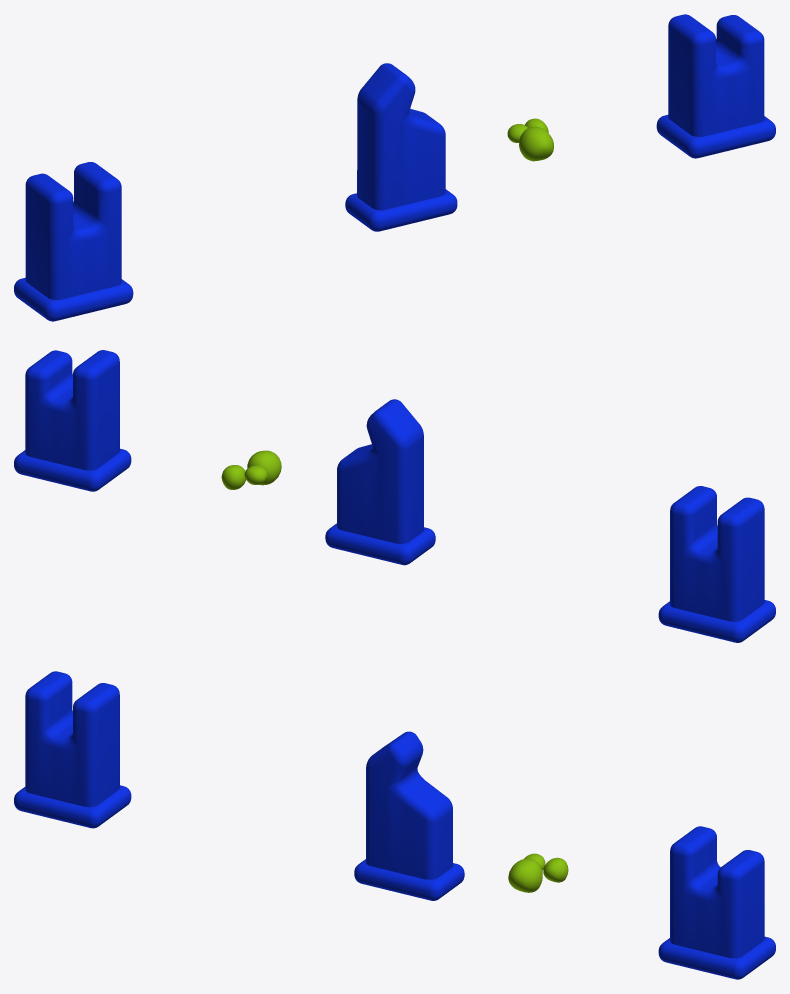
File: city-train.fbx
The picture shows the model from 3 angles, top to bottom: view 1: azimuth 30°, elevation 25°; view 2: azimuth 150°, elevation 25°; view 3: azimuth 330°, elevation 25°; orthographic projection.
Visible parts, largest first — view 1: gedung.006, gedung.005, gedung.004, daun.117; view 2: gedung.006, gedung.005, gedung.004, daun.117; view 3: gedung.006, gedung.005, gedung.004, daun.117.
Part boxes in pixels (<box>): gedung.006: <box>14,162,133,321</box>; gedung.005: <box>656,14,775,158</box>; gedung.004: <box>345,63,457,231</box>; daun.117: <box>519,126,553,161</box>; gedung.006: <box>658,486,775,642</box>; gedung.005: <box>14,350,131,491</box>; gedung.004: <box>325,399,435,565</box>; daun.117: <box>247,450,281,485</box>; gedung.006: <box>14,671,131,828</box>; gedung.005: <box>658,826,775,979</box>; gedung.004: <box>354,731,464,900</box>; daun.117: <box>508,858,542,892</box>.
Size of the model in its own units: 12229 by 2345 by 1303.
